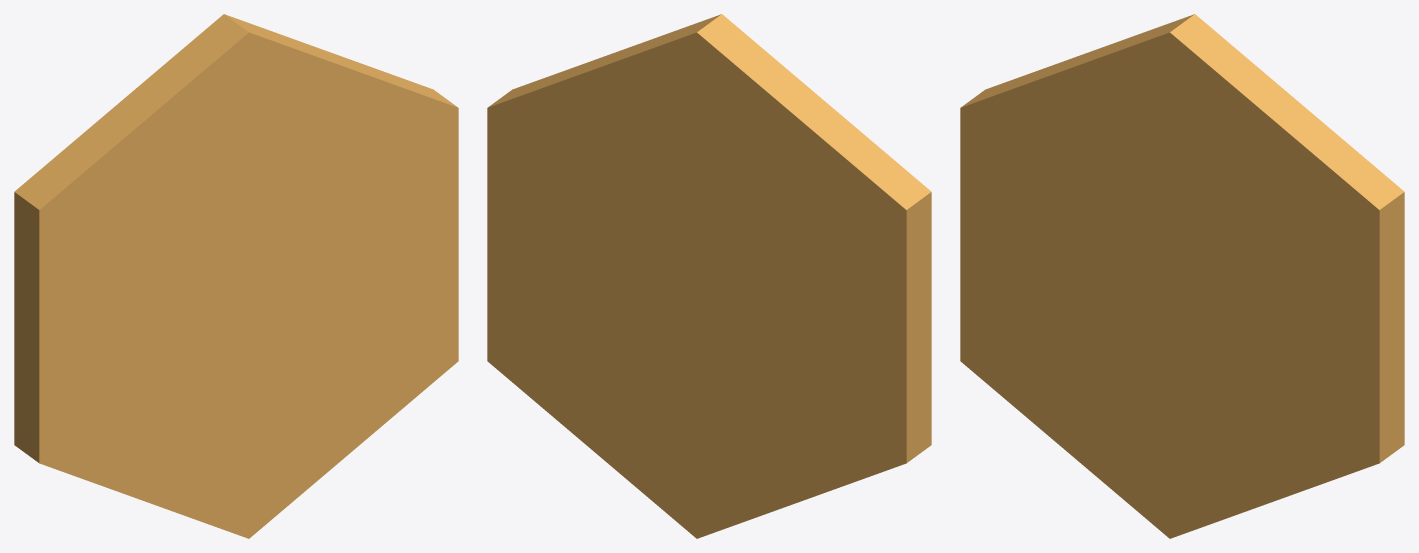
Rendered from badge_radiator_springs.glb.
The picture shows the model from 3 angles, left to right: view 1: azimuth 30°, elevation 25°; view 2: azimuth 150°, elevation 25°; view 3: azimuth 330°, elevation 25°; orthographic projection.
Parts seen in each view (by area): view 1: badge; view 2: badge; view 3: badge.
Part boxes in pixels (x1,y1,x2,y2): badge: [14, 14, 458, 538]; badge: [487, 14, 931, 538]; badge: [960, 14, 1404, 538].
Bounding box in the file's own units: 1.73 × 2 × 0.18.
